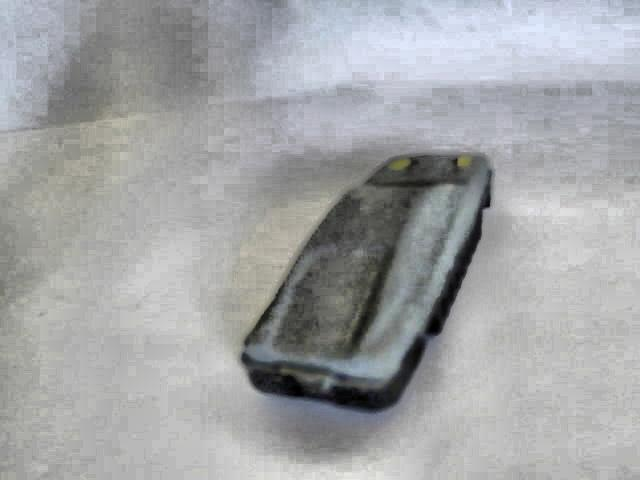normal_car: (238, 149, 500, 415)
